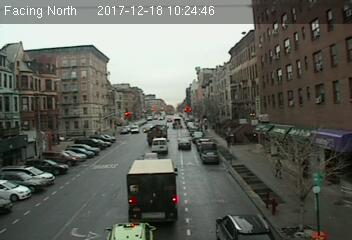car: (216, 213, 274, 237), (103, 222, 155, 240), (202, 149, 218, 162), (179, 139, 191, 149)
pedestrian: (274, 158, 283, 182)
truck: (153, 138, 169, 152)
ups: (127, 158, 181, 224)
